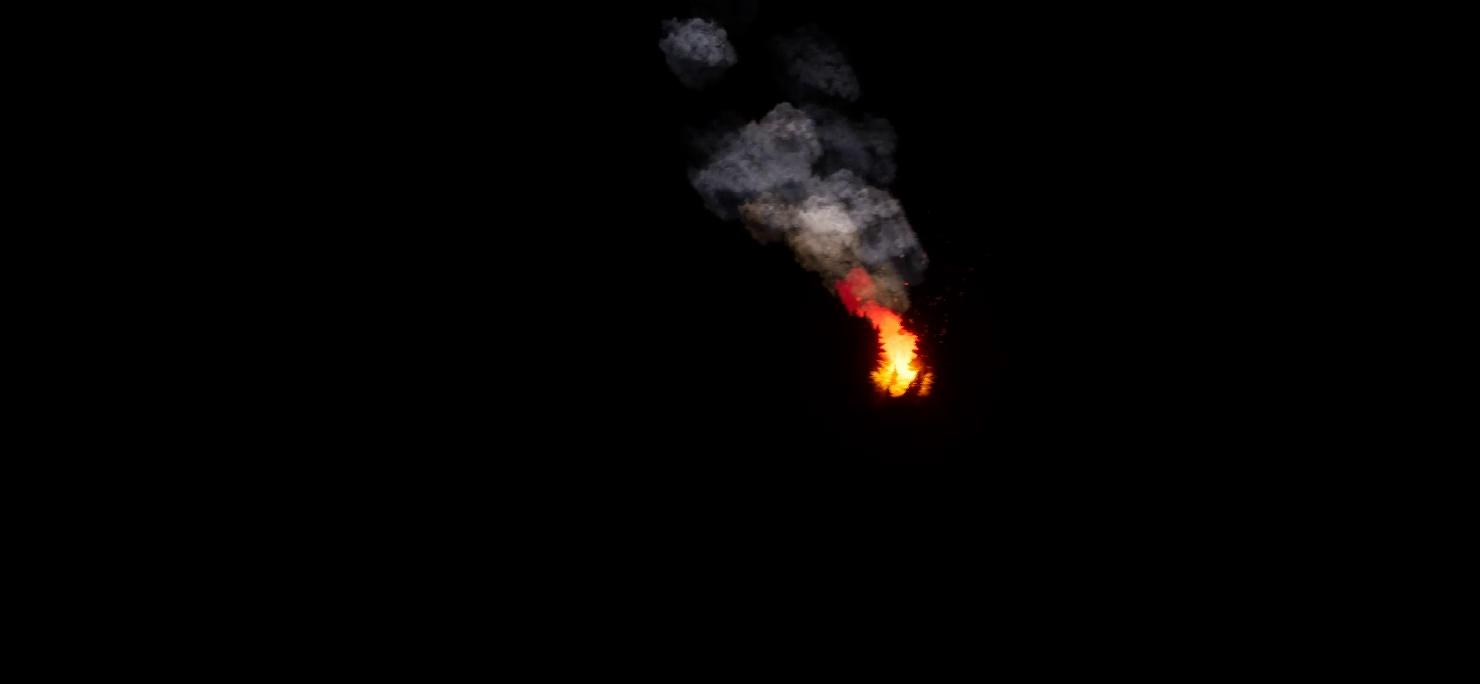fire: (834, 268, 934, 401)
smoke: (695, 93, 918, 306), (667, 17, 744, 70)
